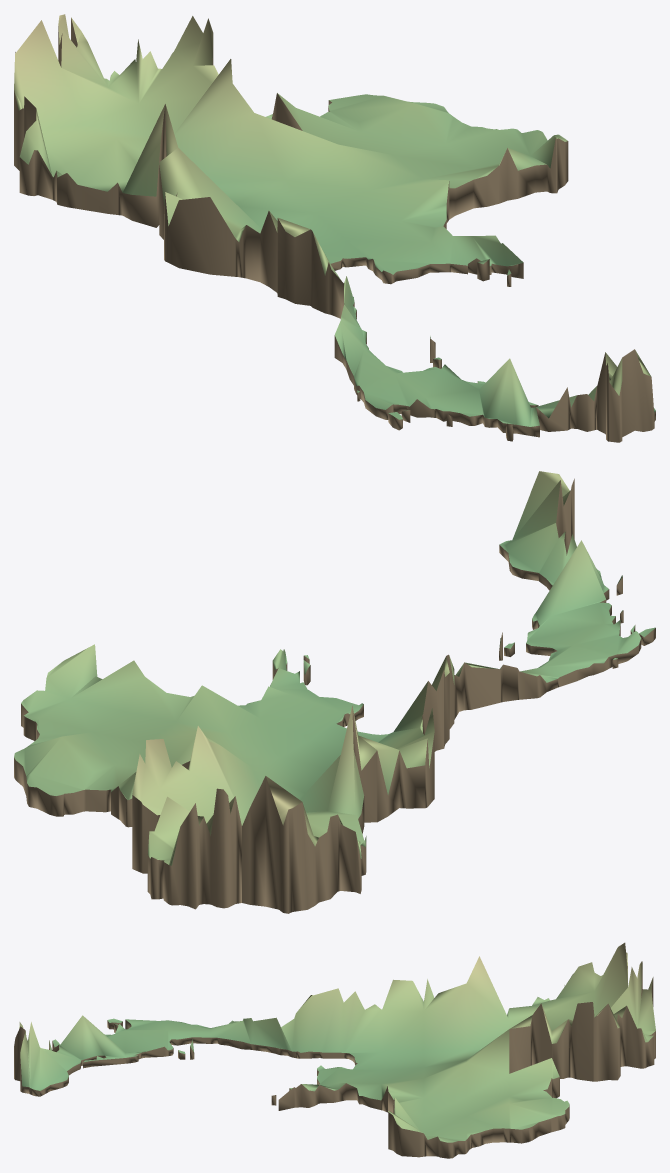
The model's file is THA.glb.
The picture shows the model from 3 angles, top to bottom: view 1: azimuth 30°, elevation 25°; view 2: azimuth 150°, elevation 25°; view 3: azimuth 270°, elevation 25°; orthographic projection. The views are drawn at different scales.
Parts seen in each view (by area): view 1: THA; view 2: THA; view 3: THA.
Boxes of the visible parts, x1=… form: THA: x1=14, y1=14, x2=655, y2=442; THA: x1=14, y1=471, x2=655, y2=913; THA: x1=14, y1=942, x2=655, y2=1158.
Size of the model in its own units: 0.9794 by 0.2863 by 1.83.
